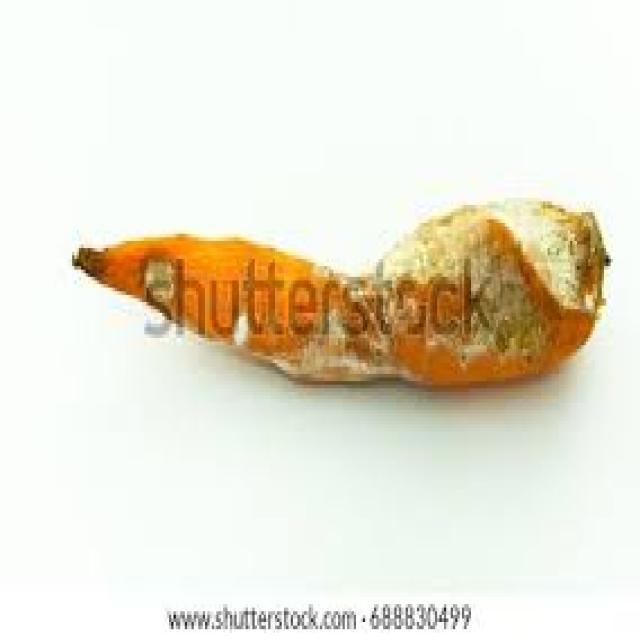Stale_Carrot: (72, 199, 610, 386)
